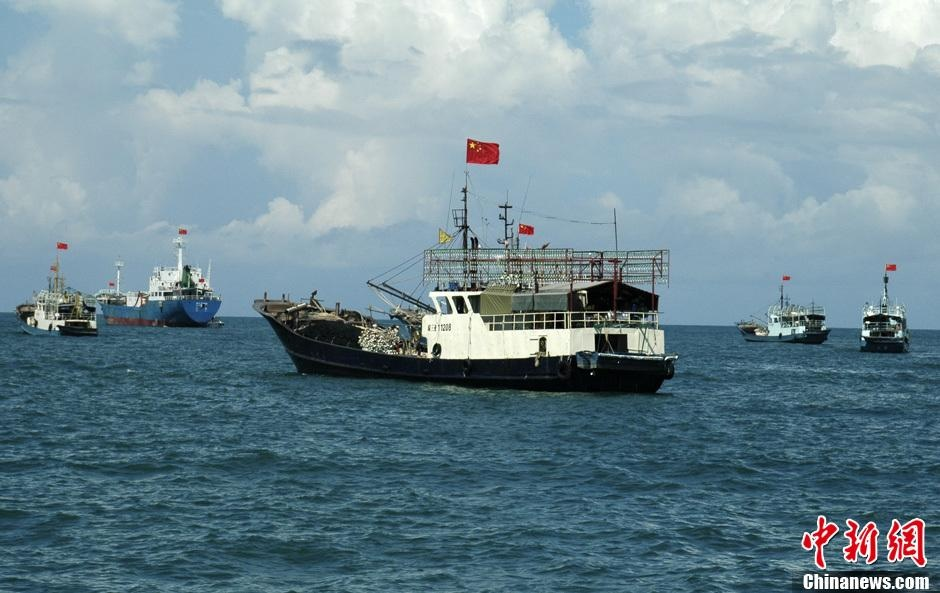Cargoship: (92, 250, 222, 329)
otherboat: (250, 187, 682, 400), (6, 266, 105, 343), (733, 280, 833, 348), (855, 272, 919, 355)
